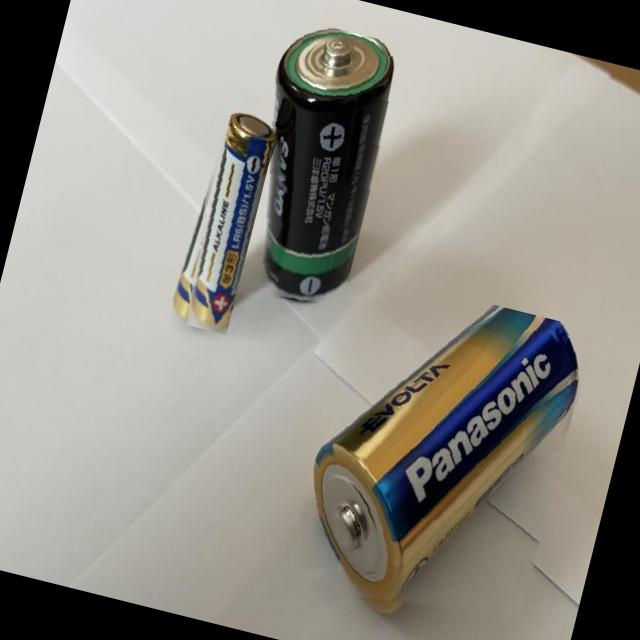Hazard: (282, 271, 595, 640), (222, 17, 406, 316), (165, 108, 278, 334)
